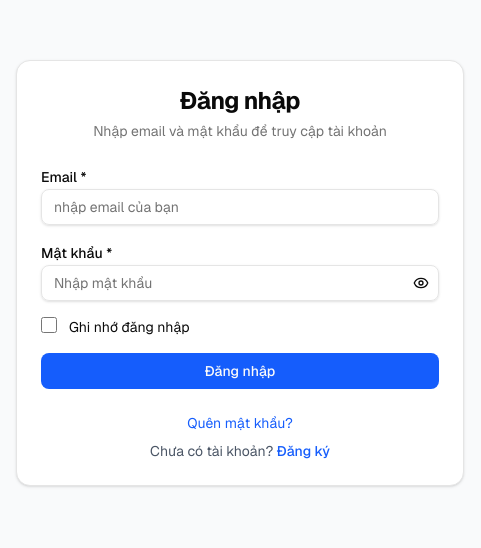
Test case: LoginPage › handles rate limiting error
Type "test@example.com" into the field labelled "Email *". click: (240, 207)
box: [41, 189, 439, 225]
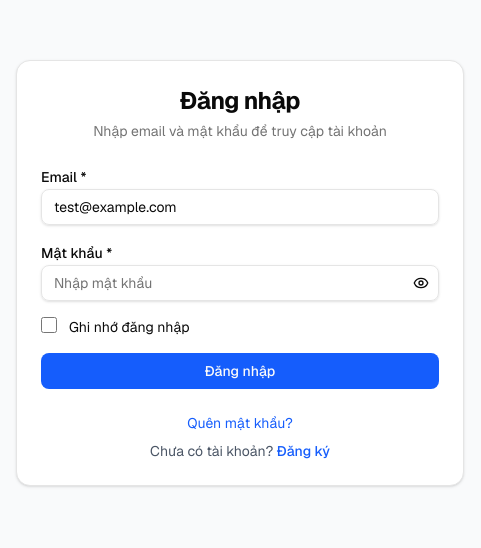
Type "password123" into the password field labelled "Mật khẩu *". click: (240, 283)
box: [41, 265, 439, 301]
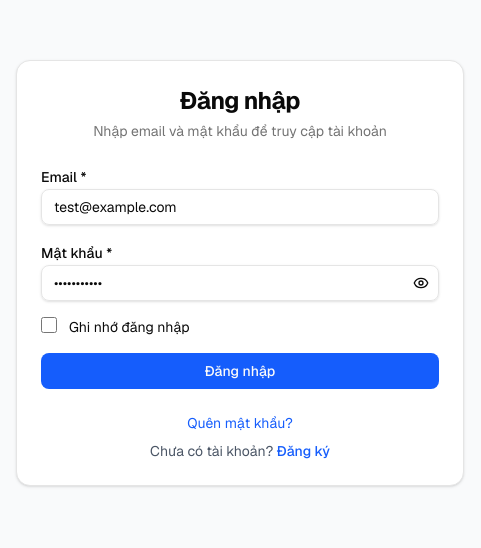
Click the button "Đăng nhập". click: (240, 371)
box: [41, 353, 439, 389]
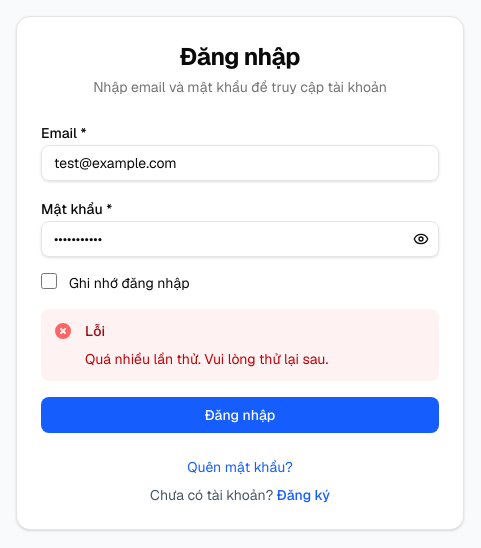
Now the text "Quá nhiều lần thử. Vui lòng thử lại sau." is shown, box [85, 349, 328, 369]
